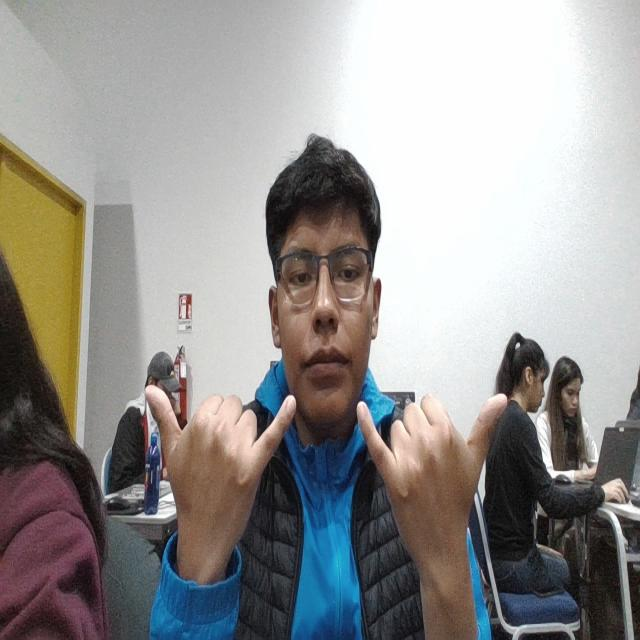now: (124, 368, 511, 576)
